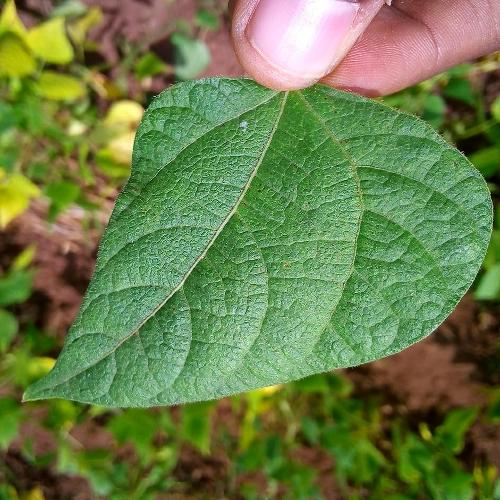sehat: (178, 122, 422, 322)
